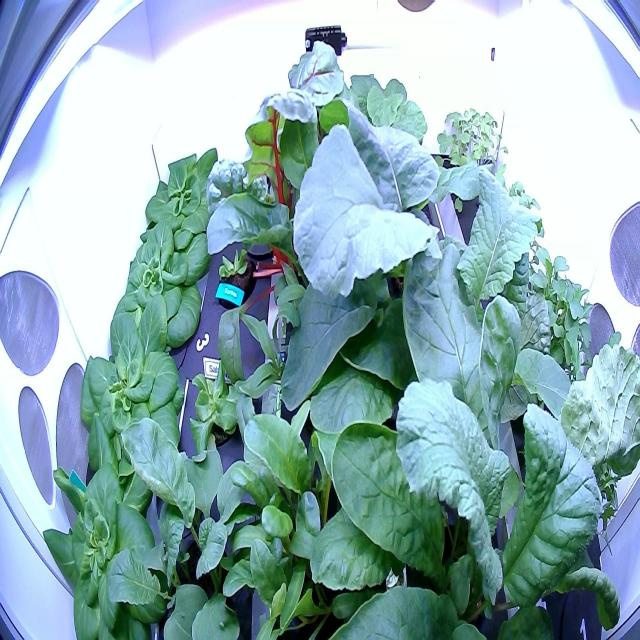young: (37, 408, 177, 640), (70, 284, 193, 500), (101, 207, 216, 364), (140, 133, 222, 264), (180, 342, 254, 461), (210, 236, 260, 313)
